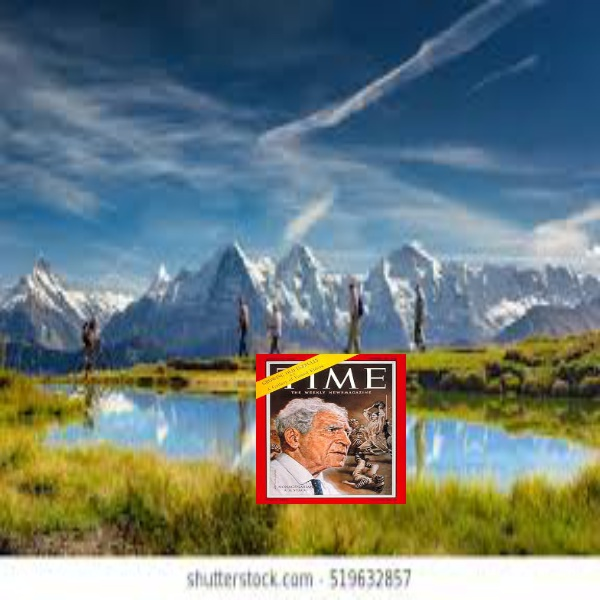time_cover: (247, 342, 409, 501)
